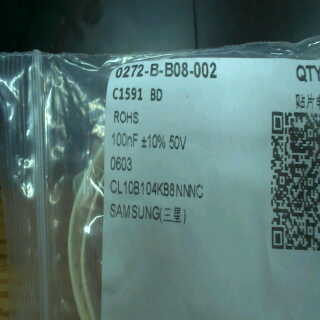100nF: (108, 128, 140, 149)
